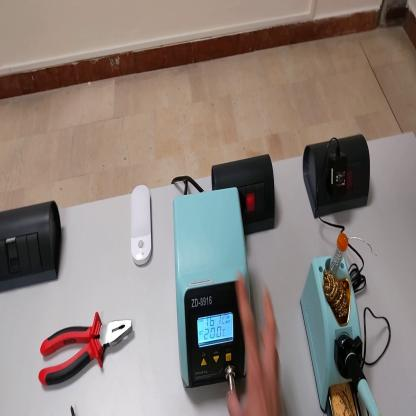hand: (225, 271, 284, 415)
pliers: (38, 308, 137, 385)
screwdriver-: (70, 405, 79, 412)
socket: (304, 127, 371, 222), (206, 148, 277, 237)
welder base: (302, 231, 367, 413)
welder probe tip: (342, 340, 380, 414)
welder station: (172, 187, 252, 391)
